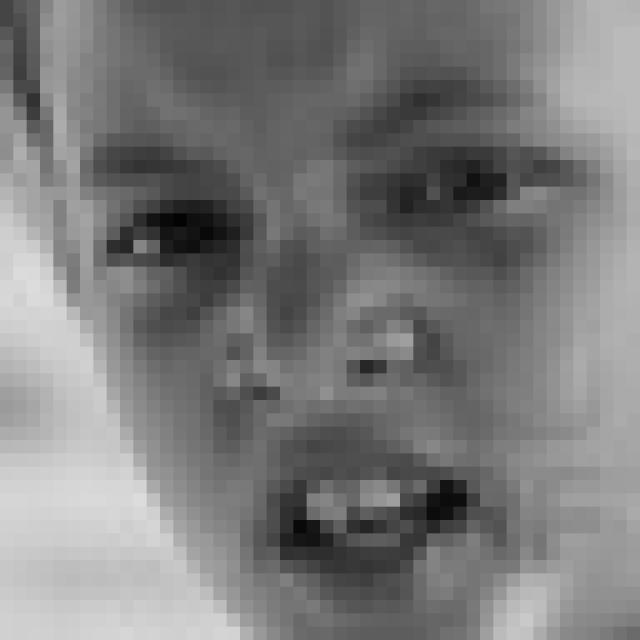disgust: (93, 69, 603, 610)
